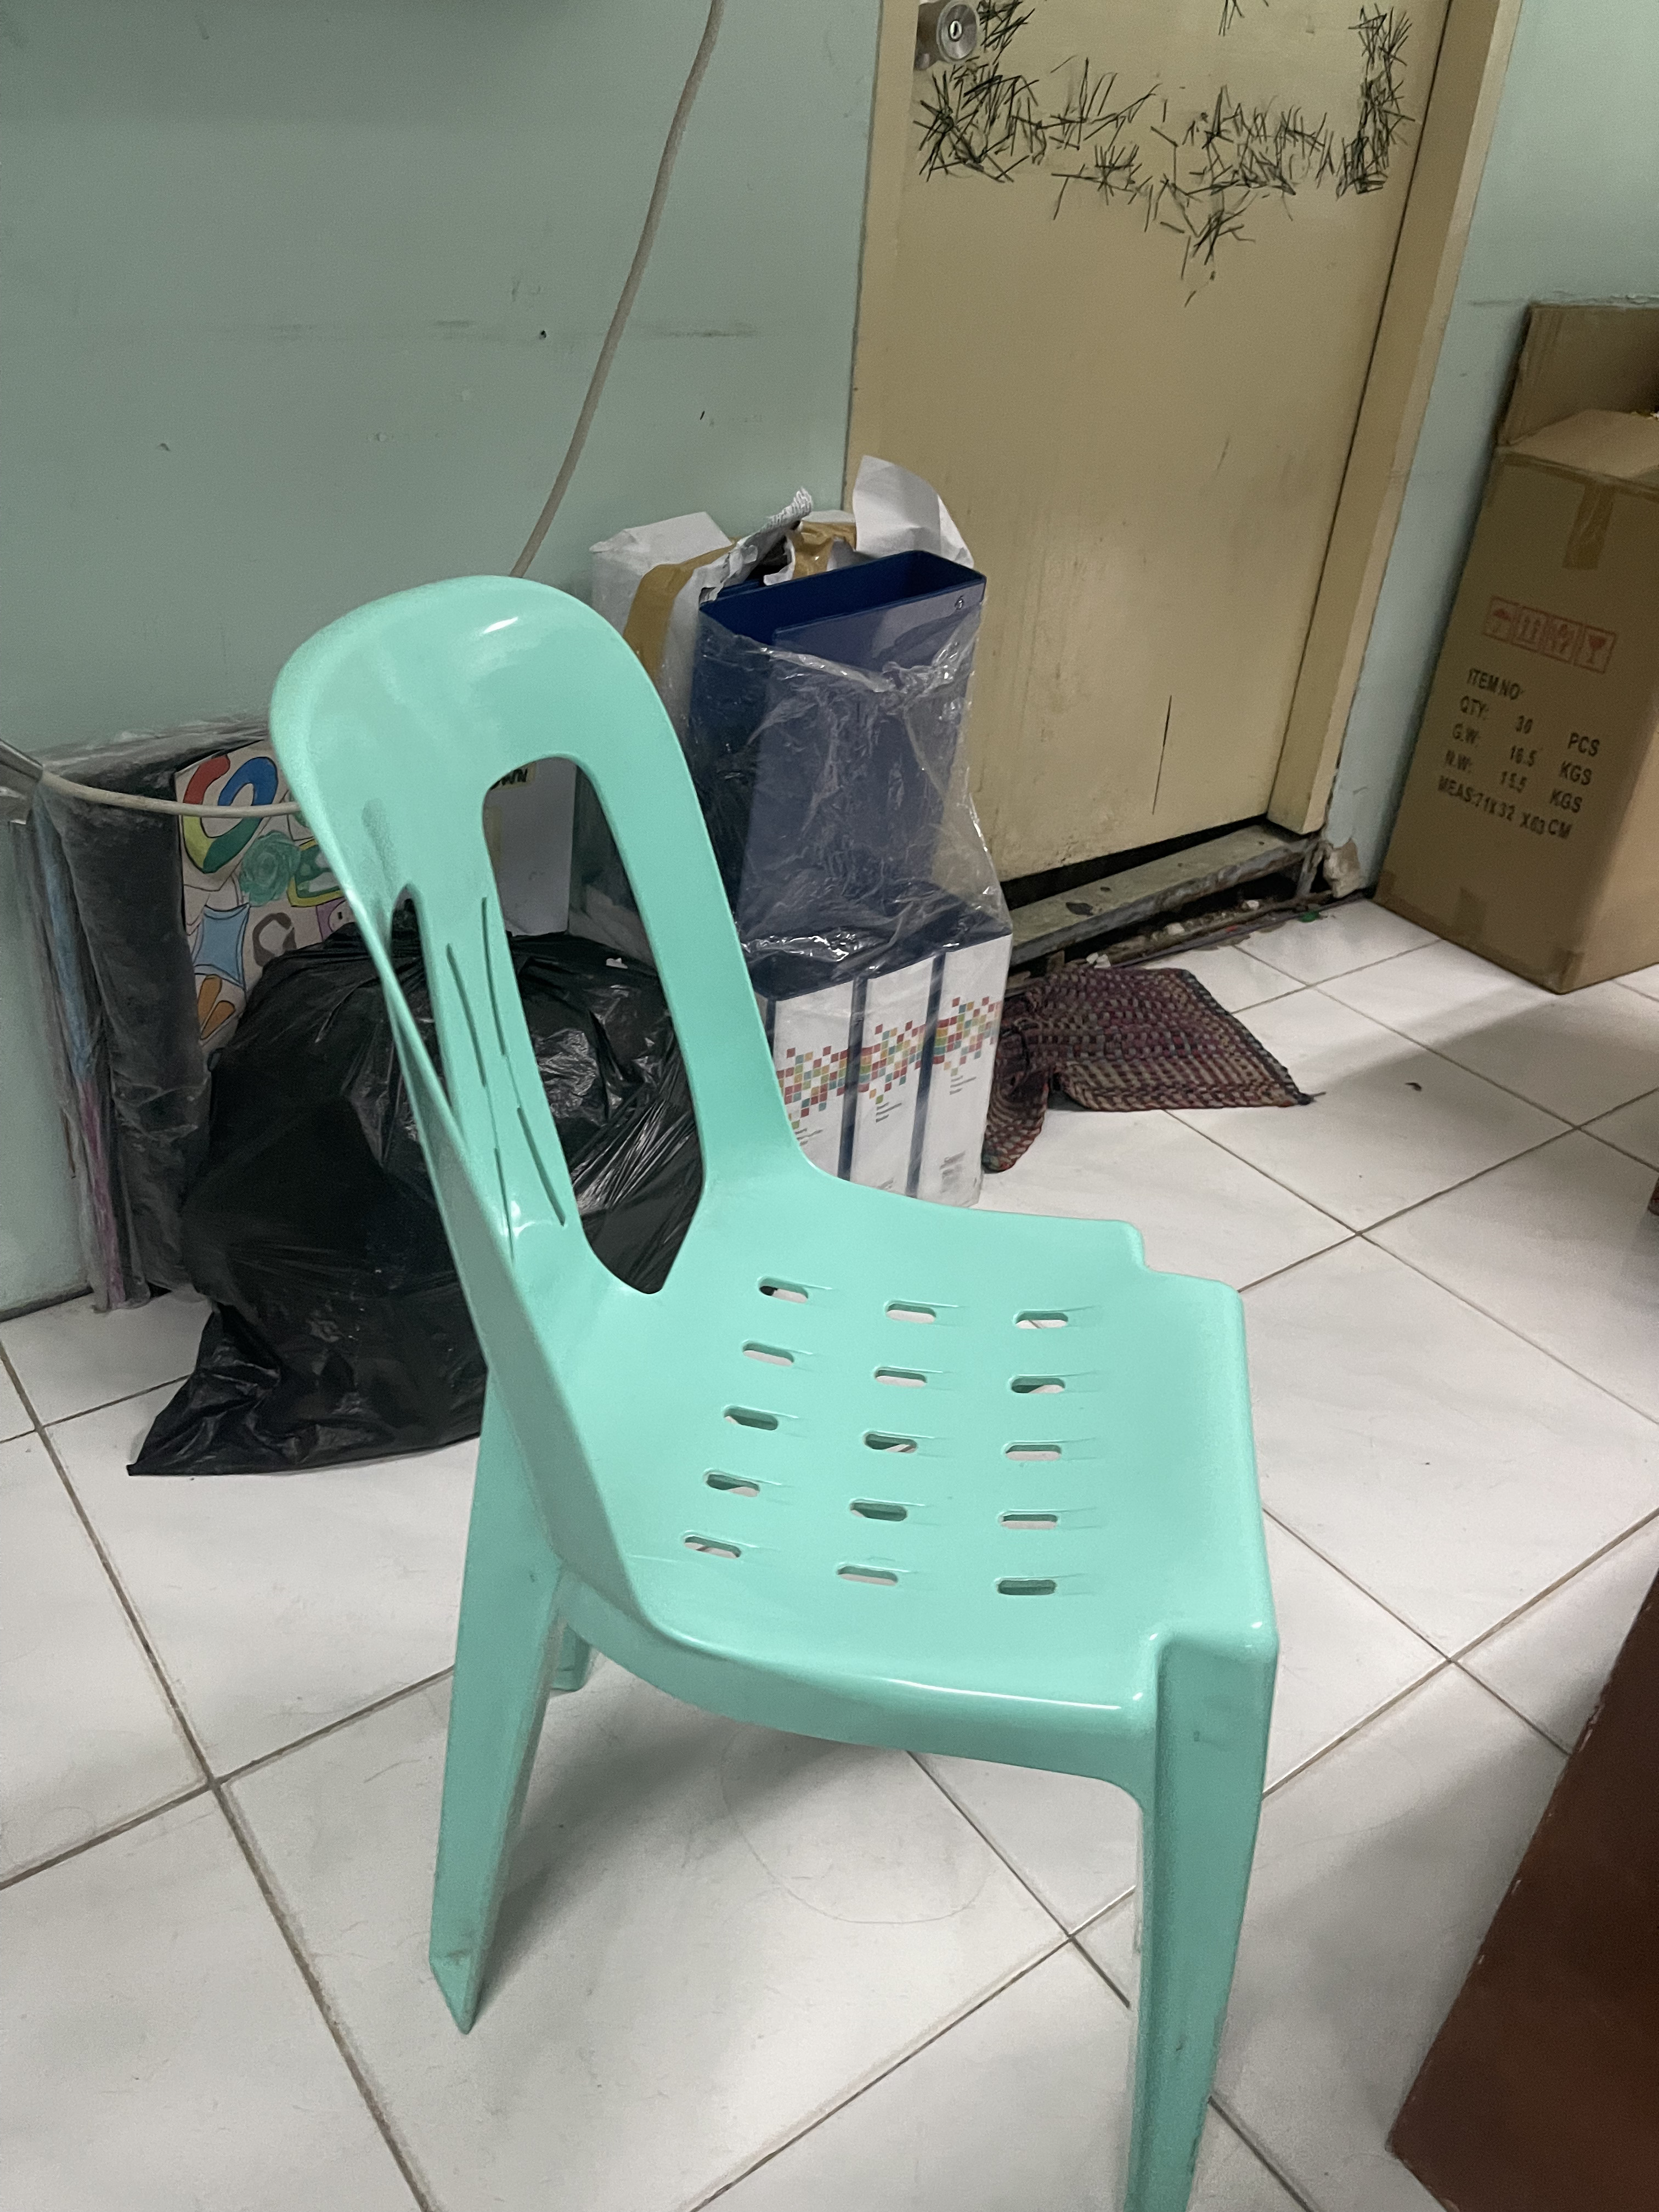chair2: (260, 563, 1297, 2212)
